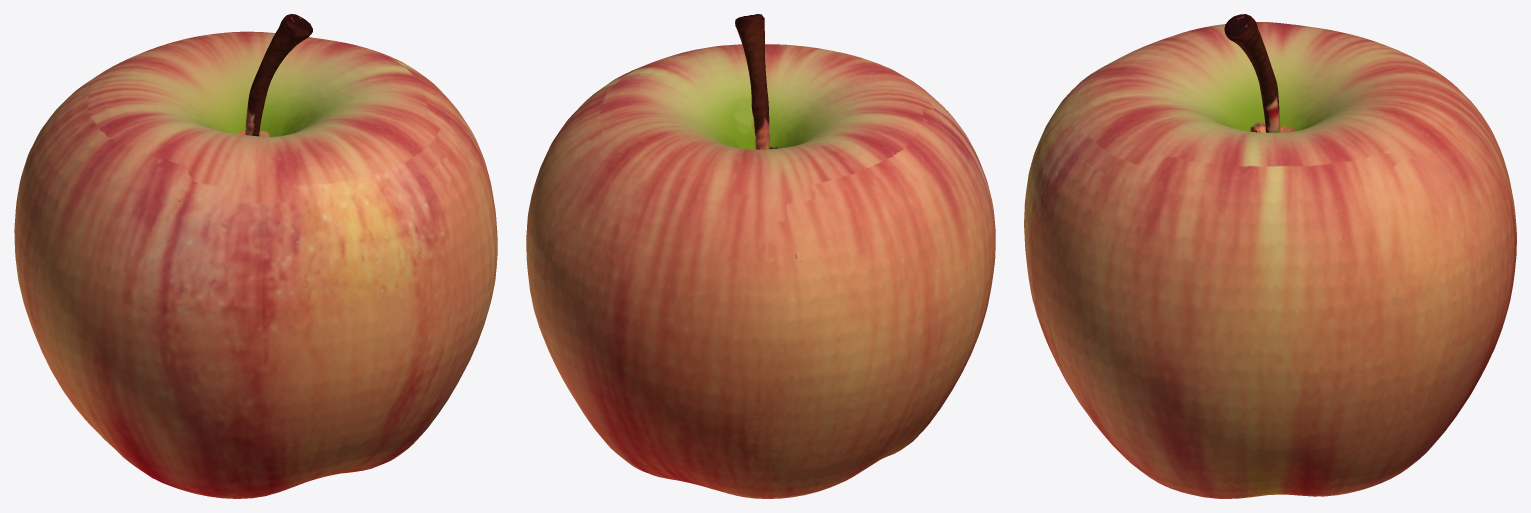
Rendered from preview.glb.
3 views of the same model, side by side, from view 1: azimuth 30°, elevation 25°; view 2: azimuth 150°, elevation 25°; view 3: azimuth 270°, elevation 25° (orthographic). The views are drawn at different scales.
Visible parts, largest first — view 1: LOD0; view 2: LOD0; view 3: LOD0.
Boxes of the visible parts, x1,y1,x2,y2 form: LOD0: (14, 14, 497, 498); LOD0: (526, 14, 995, 498); LOD0: (1024, 14, 1516, 498).
Size of what is drawn, in the model's own units: 1.93 by 1.94 by 1.93.
1 material, 1 textured.
